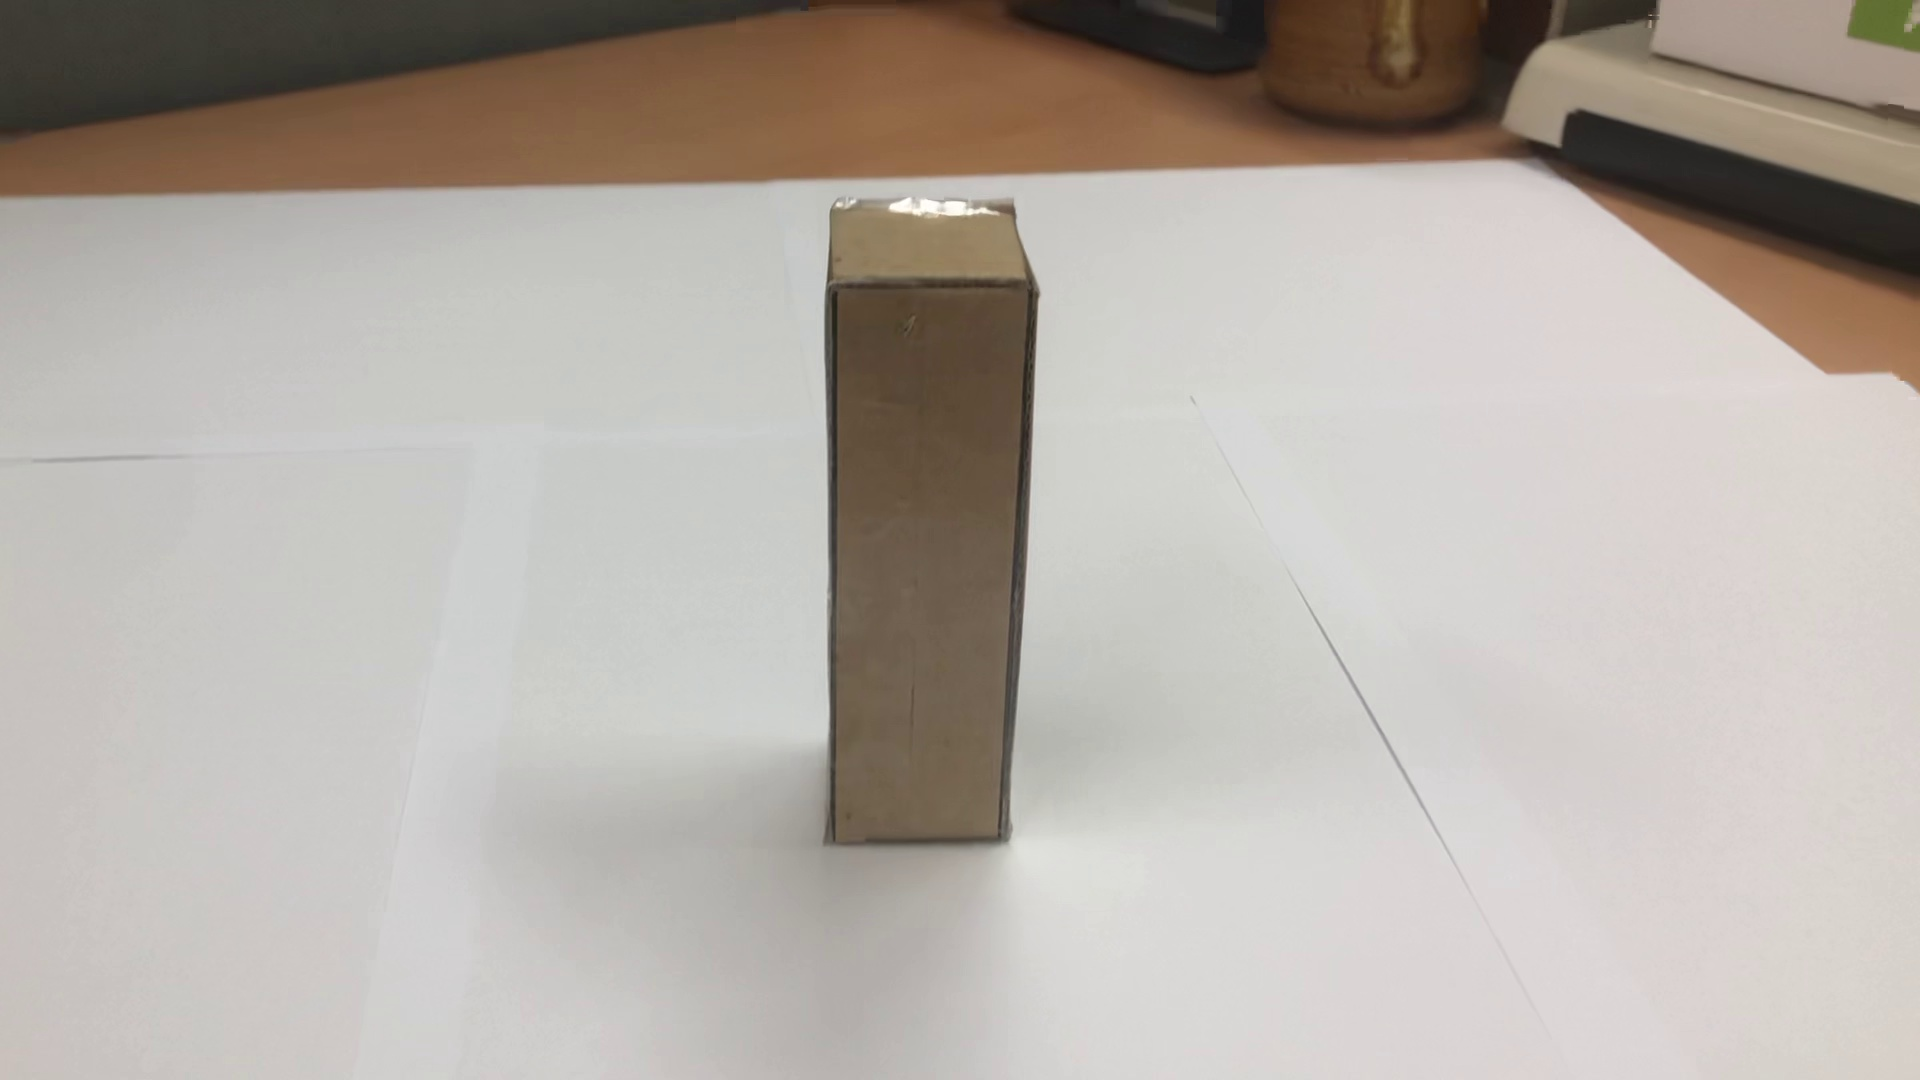box: (814, 189, 1055, 856)
